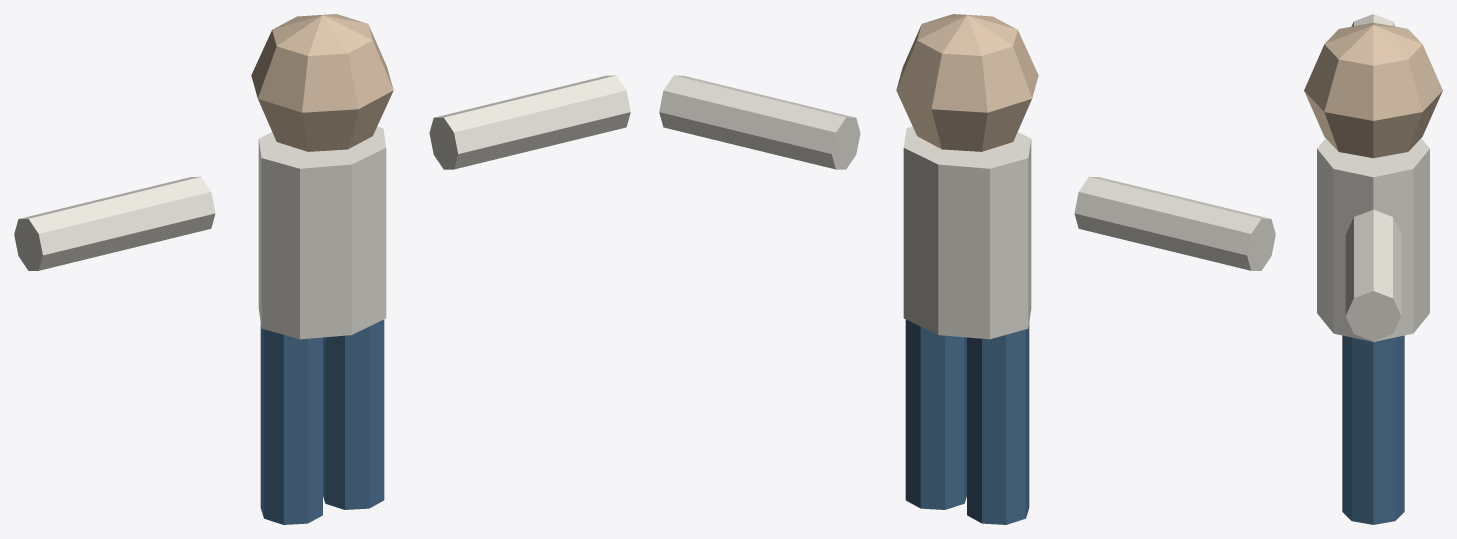
Rendered from customer_a.glb.
3 views of the same model, side by side, from view 1: azimuth 30°, elevation 25°; view 2: azimuth 150°, elevation 25°; view 3: azimuth 270°, elevation 25° (orthographic). The views are drawn at different scales.
Visible parts, largest first — view 1: customer_a; view 2: customer_a; view 3: customer_a.
Part boxes in pixels (box(x1,y1,x2,y2)): customer_a: box(14, 14, 630, 524); customer_a: box(659, 14, 1275, 524); customer_a: box(1304, 14, 1442, 524).
Bounding box in the file's own units: 2.14 × 1.7 × 0.4533.
